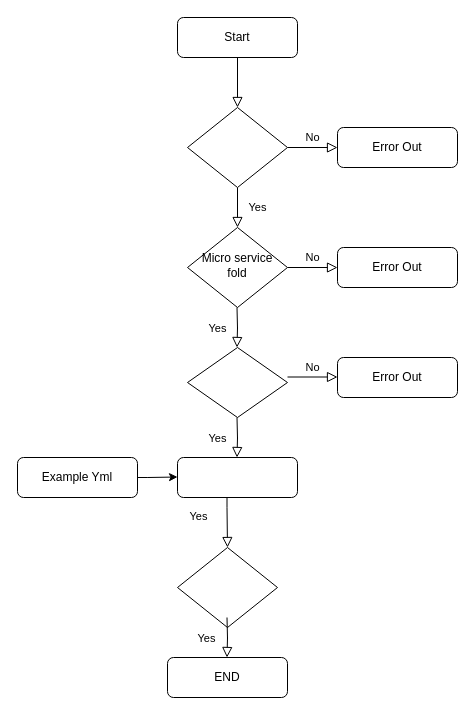
This 475x715 diagram has some shape labels left out. Here are the shapes that lost their labels. From the top down, the centre of each, then its label:
At point (237, 147): "Identify the repo".
At point (237, 382): "Identify if it maven or .net".
At point (237, 477): "Create azure pipeline yml".
At point (227, 587): "Create pipeline using API".
